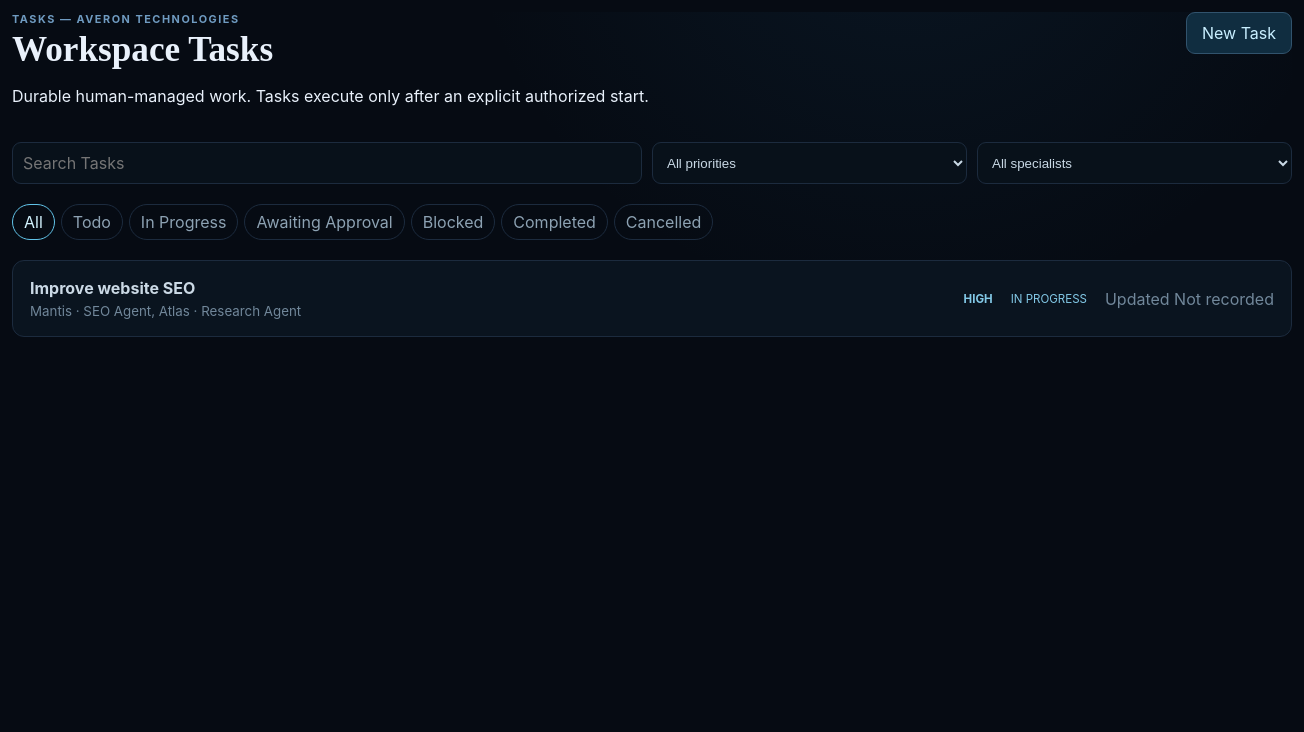
Test: Tasks Control Center › starts execution only from the explicit control and renders the linked Run result
Click the button "Improve website SEO". click: (113,288)
box: [12,260,1292,337]
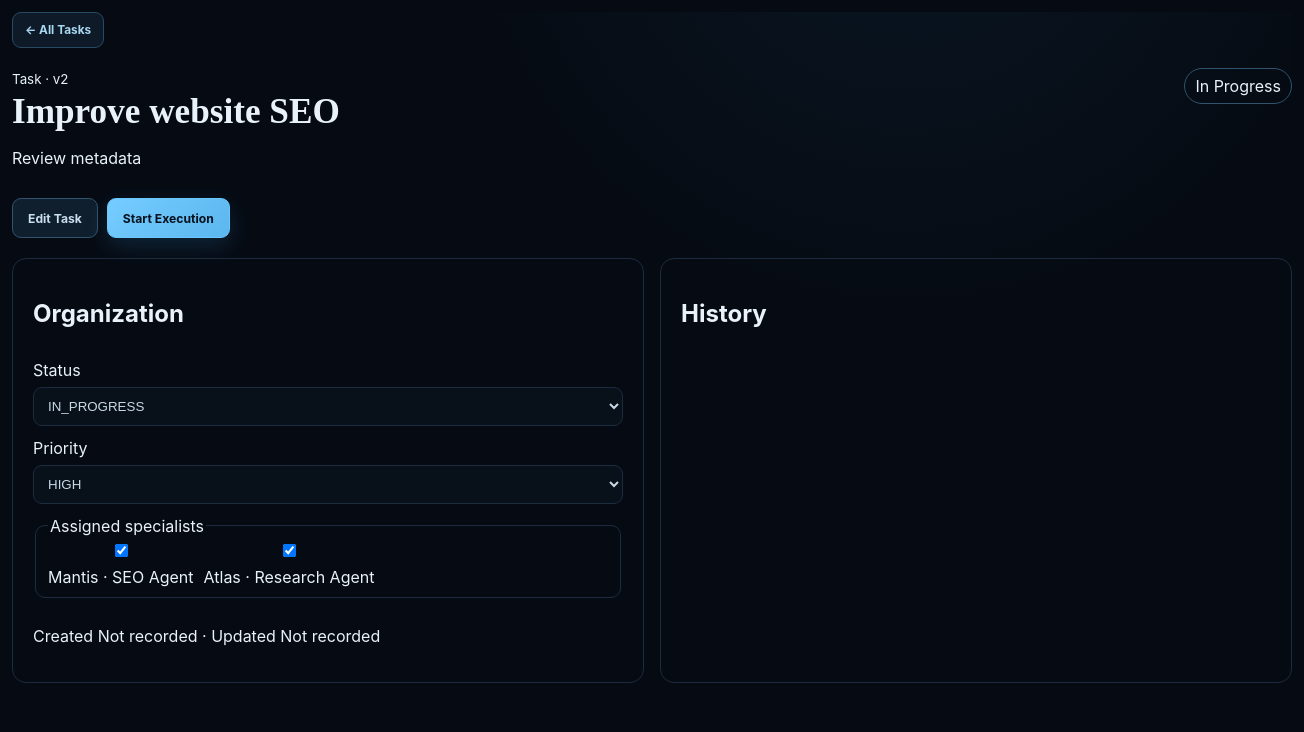
Result: the heading "Organization" is shown at [33,299,184,328]
Click the button "Start Execution". click: (168,218)
box: [107,198,230,238]
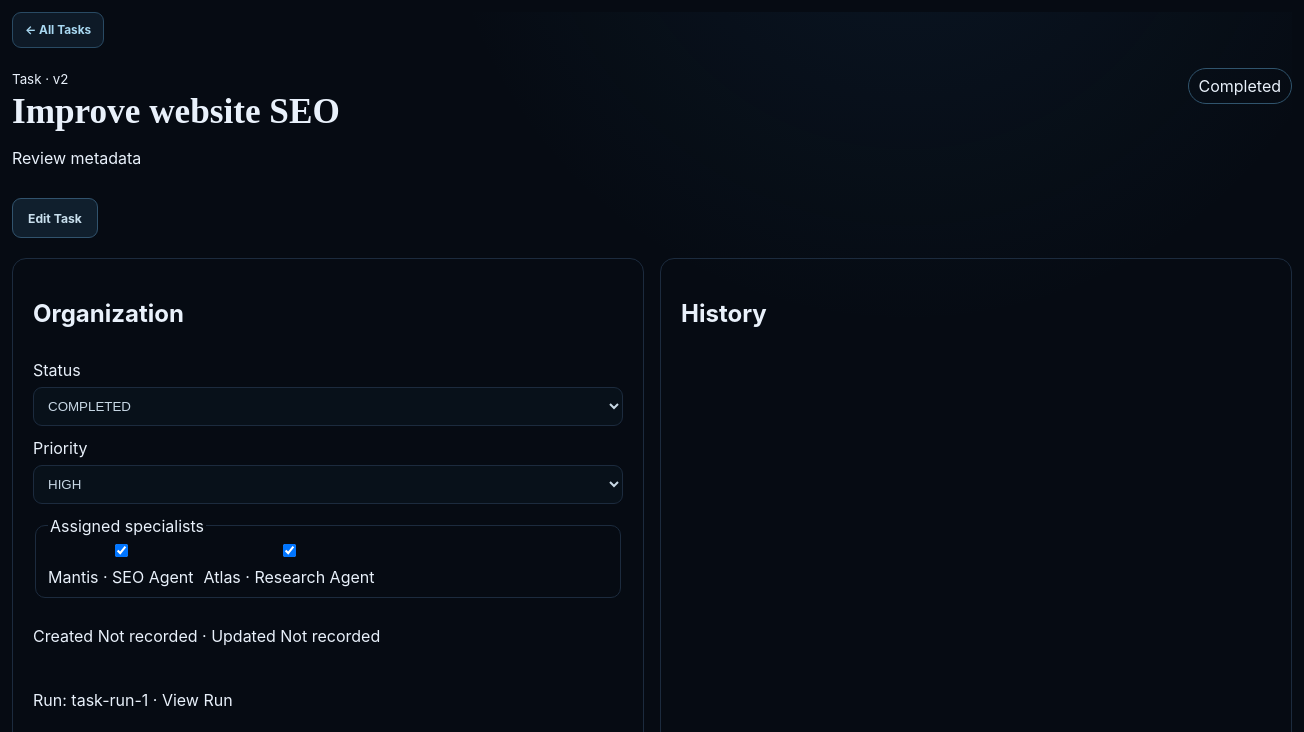
Result: the text "Run: task-run-1 · View Run" is shown at [33,690,233,710]
